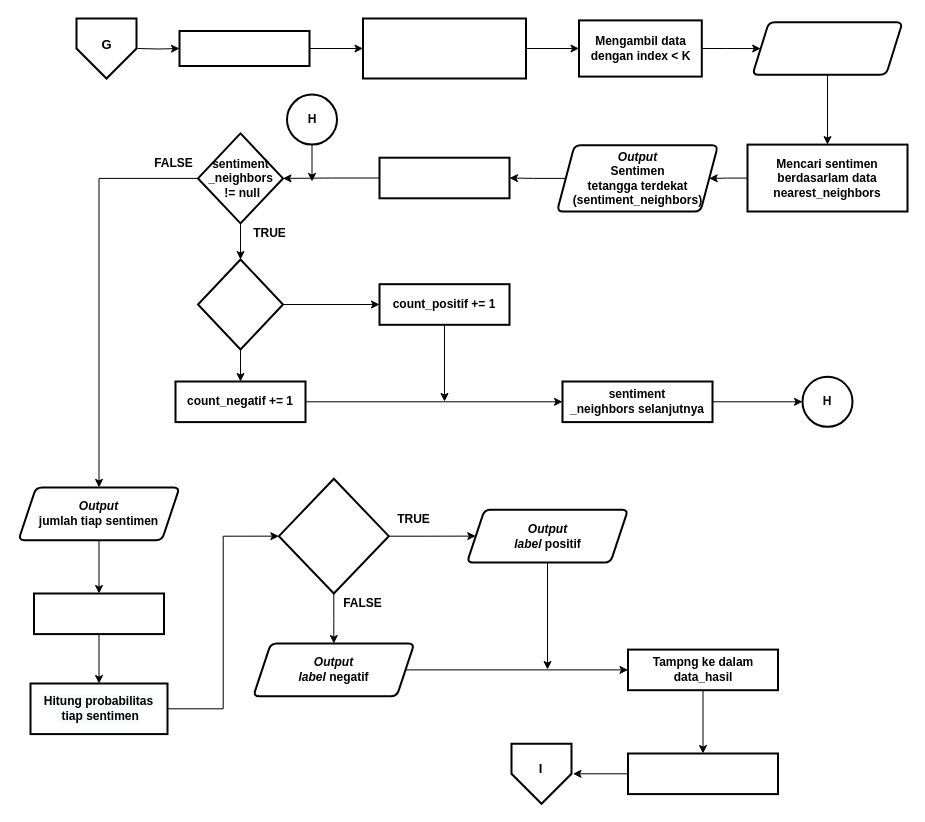
This 925x822 diagram has some shape labels left out. Each missing label, with the box of its shape:
count_positif = 0, count_negatif = 0: (378, 156, 510, 199)
nearest_neighbors = {}: (178, 30, 310, 66)
Output Tetangga terdekat (nearest_neighbors): (751, 21, 903, 75)
prob_positif = 0, prob_negatif = 0: (32, 592, 164, 635)
prob_positif > prob_negatif: (277, 477, 389, 594)
sentiment == positif: (196, 258, 284, 350)
Urutkan distance berdasarkan nilai terkecil hingga terbesar ( ascending ): (362, 17, 526, 79)
vector_uji selanjutnya: (626, 752, 778, 795)
